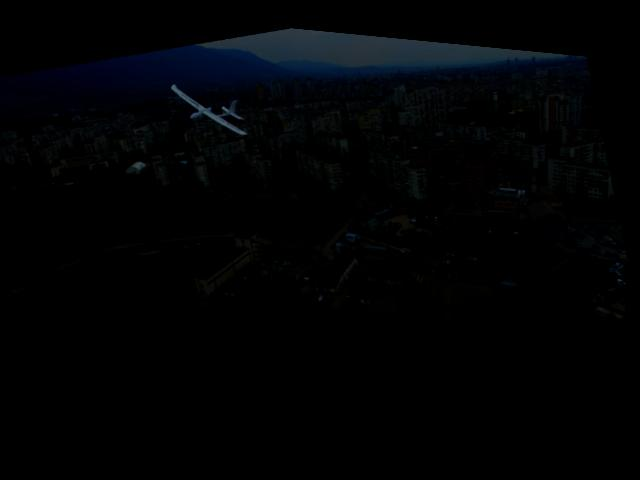plane: (167, 61, 255, 147)
